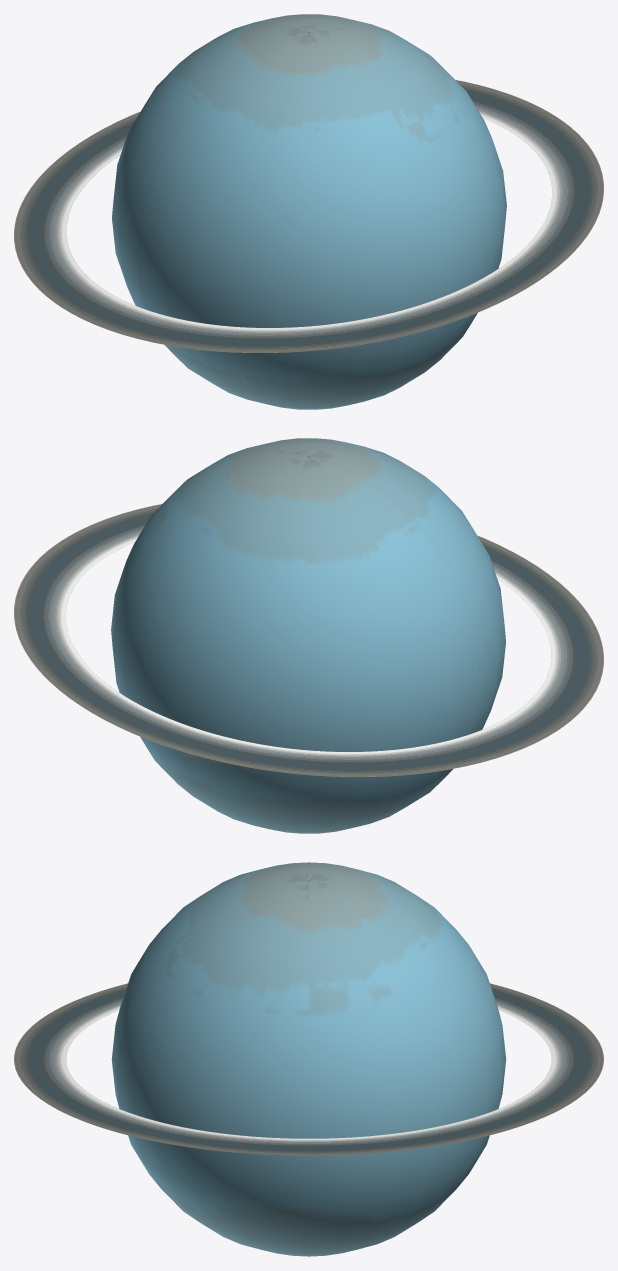
File: 08_node_URANUS_0.fbx
The picture shows the model from 3 angles, top to bottom: view 1: azimuth 30°, elevation 25°; view 2: azimuth 150°, elevation 25°; view 3: azimuth 270°, elevation 25°; orthographic projection.
Parts seen in each view (by area): view 1: 08_node_URANUS_0; view 2: 08_node_URANUS_0; view 3: 08_node_URANUS_0.
Boxes of the visible parts, x1=… form: 08_node_URANUS_0: x1=14, y1=14, x2=603, y2=409; 08_node_URANUS_0: x1=14, y1=438, x2=603, y2=833; 08_node_URANUS_0: x1=14, y1=862, x2=603, y2=1256.
Size of the model in its own units: 123 by 83 by 124.
